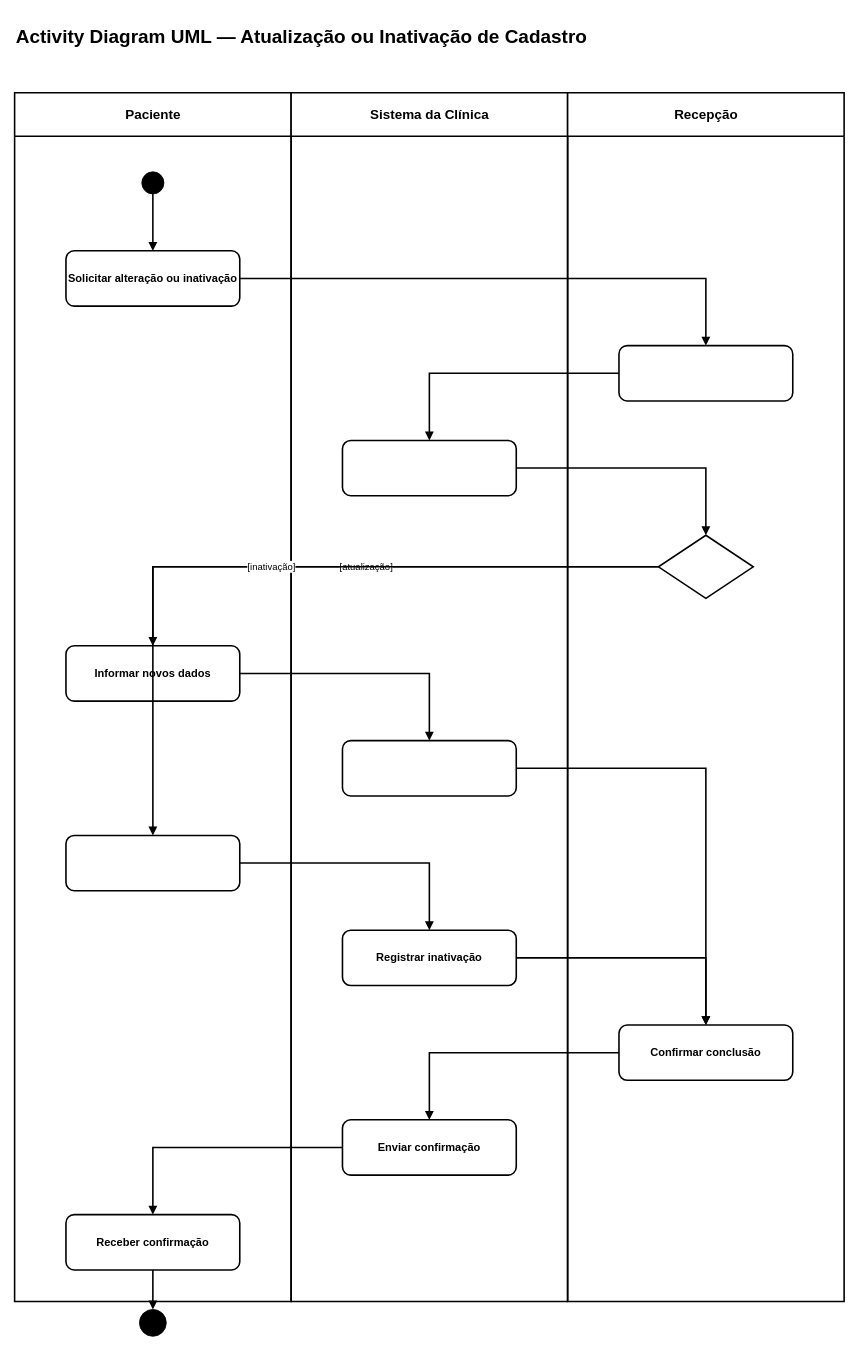
Image size: 858x1350. Some labels were removed from this diagram. Each missing label, with the box of its shape:
Confirmar inativação: (65, 834, 240, 891)
Consultar cadastro: (341, 439, 517, 496)
Identificar paciente: (618, 344, 793, 401)
Registrar alteração: (341, 739, 517, 796)
Tipo de solicitação?: (657, 534, 754, 599)
